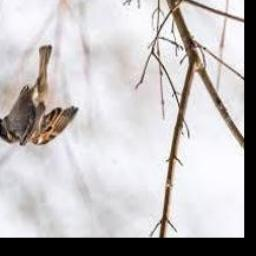Sparrow: (0, 46, 79, 146)
